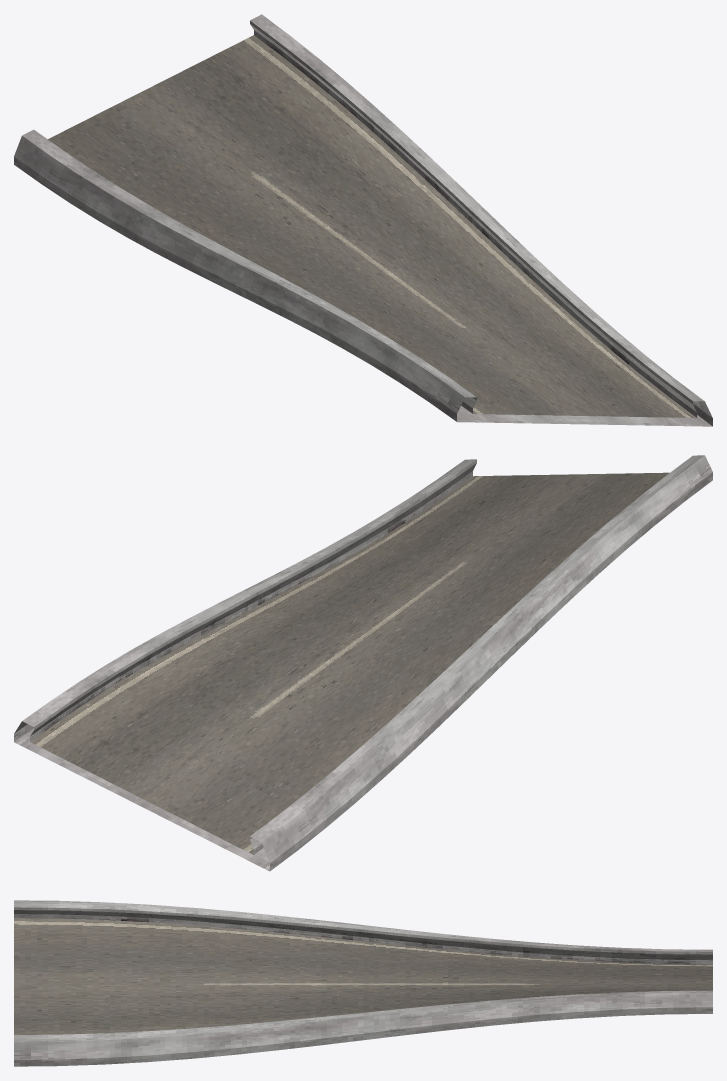
File: straight3.glb
The picture shows the model from 3 angles, top to bottom: view 1: azimuth 30°, elevation 25°; view 2: azimuth 150°, elevation 25°; view 3: azimuth 270°, elevation 25°; orthographic projection. The views are drawn at different scales.
Visible parts, largest first — view 1: road-Straight-HalfBankedRight-HalfBankedLeft-Even-Center-Siz; view 2: road-Straight-HalfBankedRight-HalfBankedLeft-Even-Center-Siz; view 3: road-Straight-HalfBankedRight-HalfBankedLeft-Even-Center-Siz.
Part boxes in pixels (box(x1,y1,x2,y2)): road-Straight-HalfBankedRight-HalfBankedLeft-Even-Center-Siz: box(14, 14, 712, 426); road-Straight-HalfBankedRight-HalfBankedLeft-Even-Center-Siz: box(14, 455, 712, 871); road-Straight-HalfBankedRight-HalfBankedLeft-Even-Center-Siz: box(14, 900, 712, 1066).
Size of the model in its own units: 1 by 0.3359 by 3.
2 materials, 2 textured.
